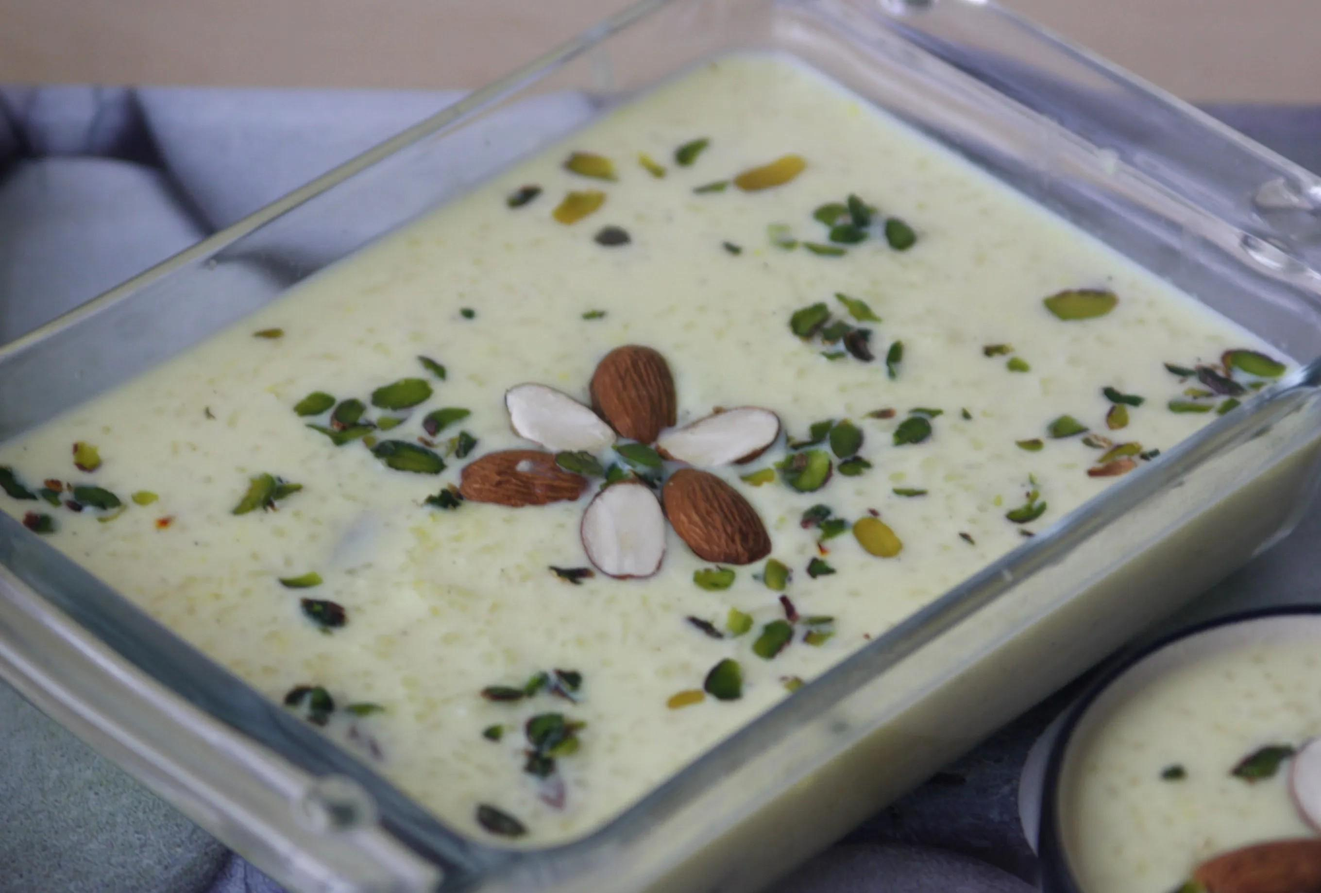Kheer: (0, 52, 1309, 893), (1060, 615, 1321, 893)
